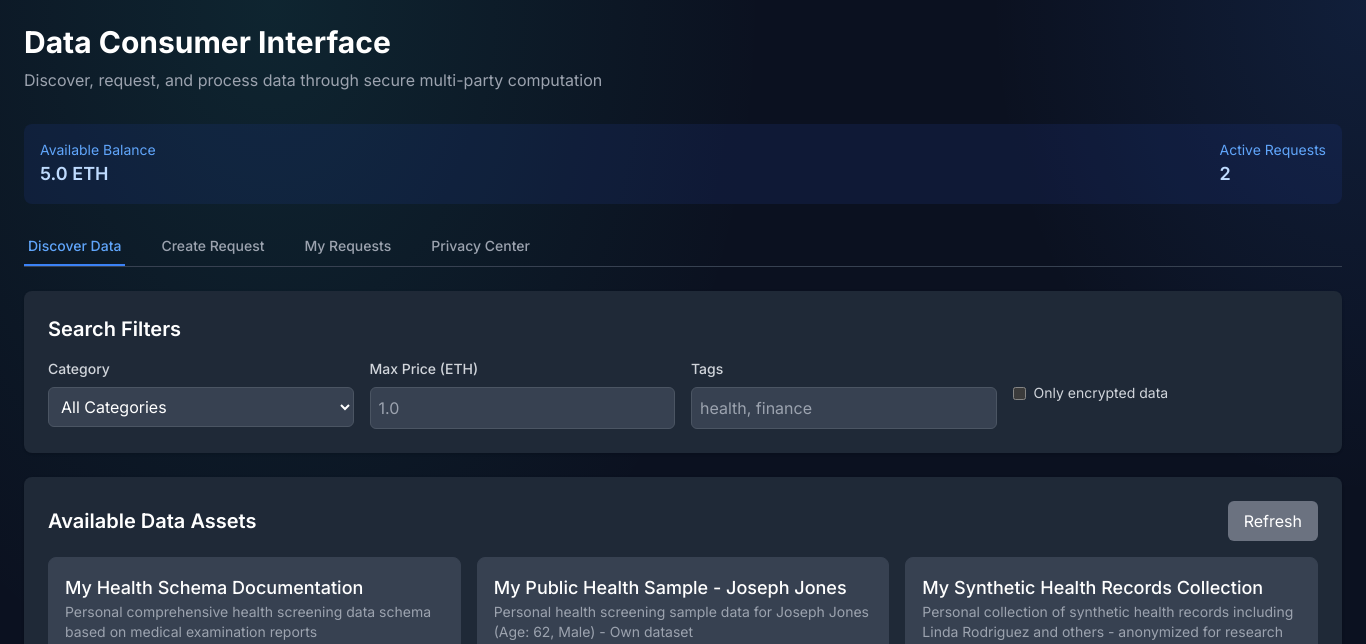
Test case: DataConsumerInterface › displays script templates
The width and height of the screenshot is (1366, 644).
# Switch to Create Request tab
Click the button "Create Request" at (213, 247), box [157,228,268,266]
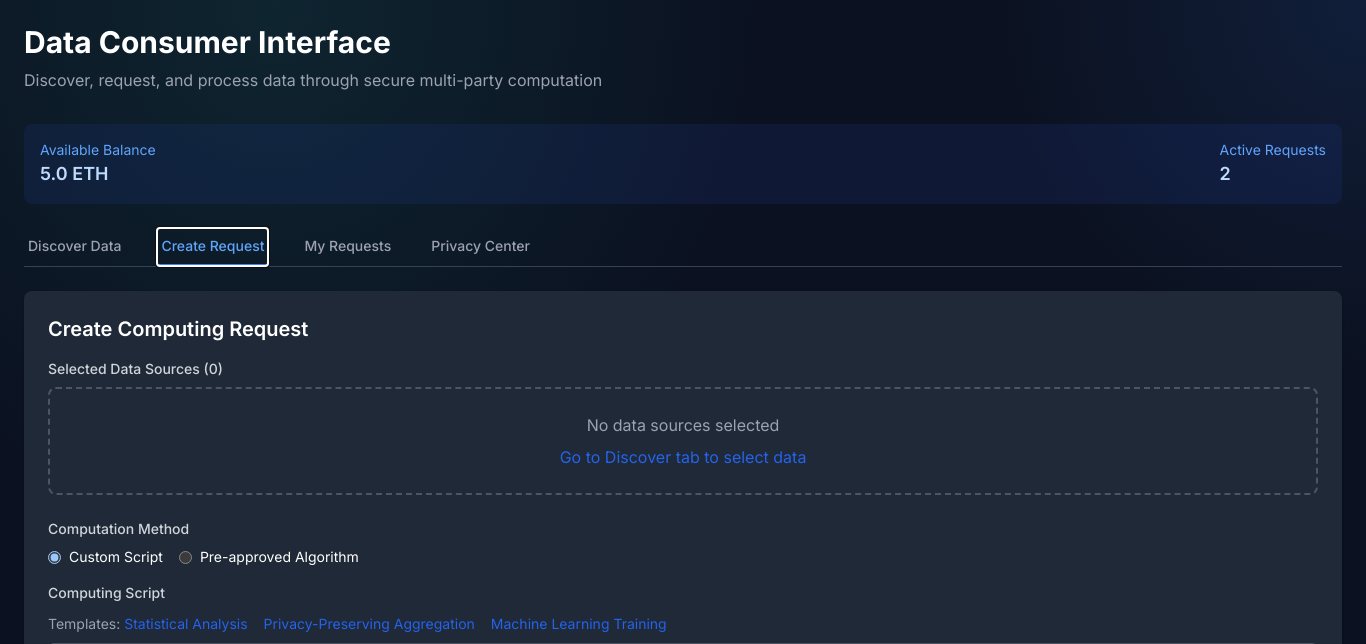
Result: the text "Templates:" is shown at [48,615,124,632]
Result: the button "Statistical Analysis" is shown at [124,614,248,634]
Result: the button "Privacy-Preserving Aggregation" is shown at [264,614,475,634]
